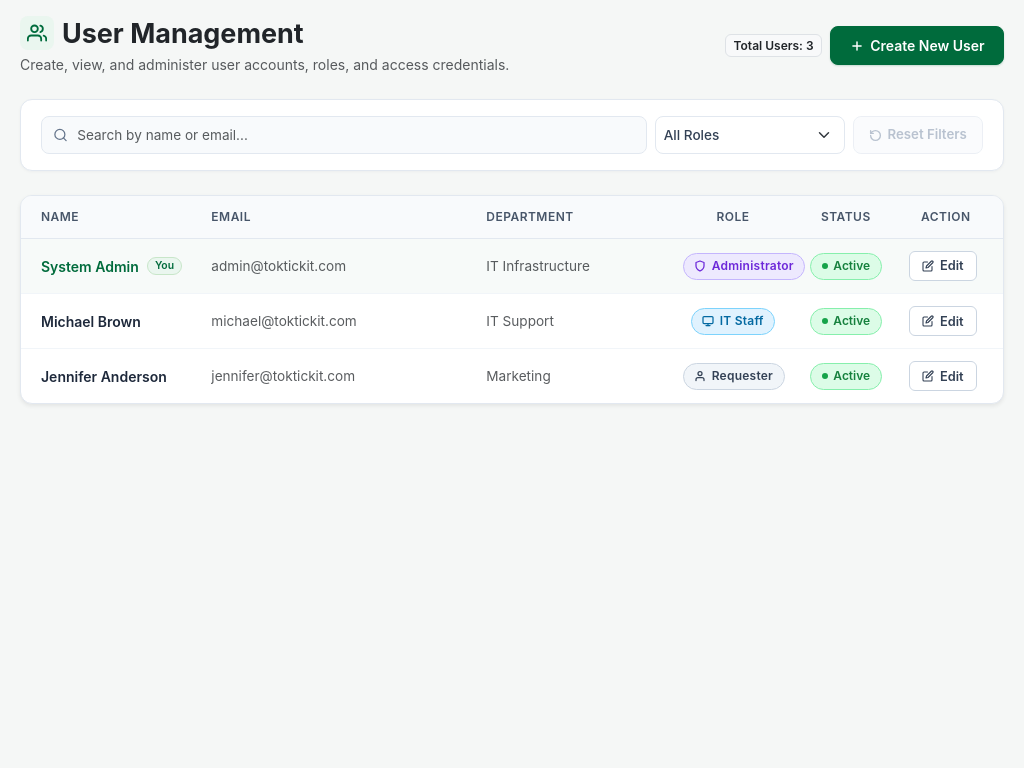
Scenario: UserManagement Component (UserManagement.test.tsx) › UI-09: User Edit & Self-Deactivation Guard Flow › enables the active toggle switch when editing another user account
The width and height of the screenshot is (1024, 768).
Expected: the table with test id "users-table" is shown, [21,196,1003,403]
Note: Click Edit on Michael Brown (id: 2)
Click the button with test id "edit-user-btn-2".
click(943, 321)  # box [909,306,977,336]
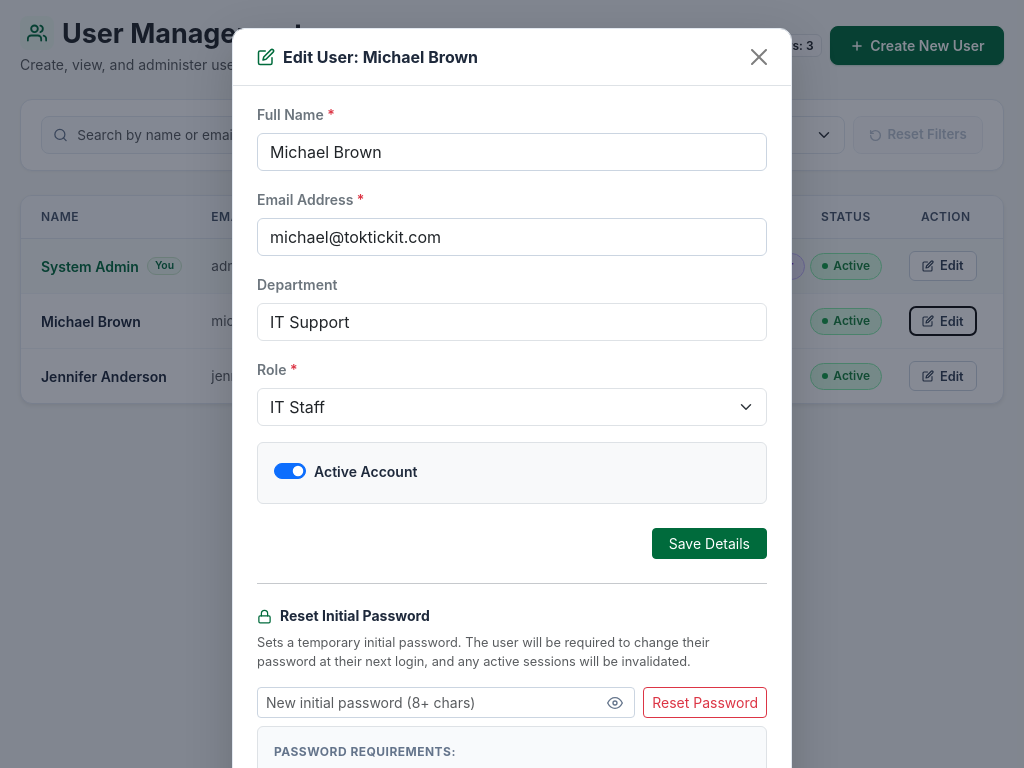
Now the dialog with test id "edit-user-modal" is shown
Now the checkbox with test id "edit-user-active-toggle" is enabled, box [274,463,306,479]
